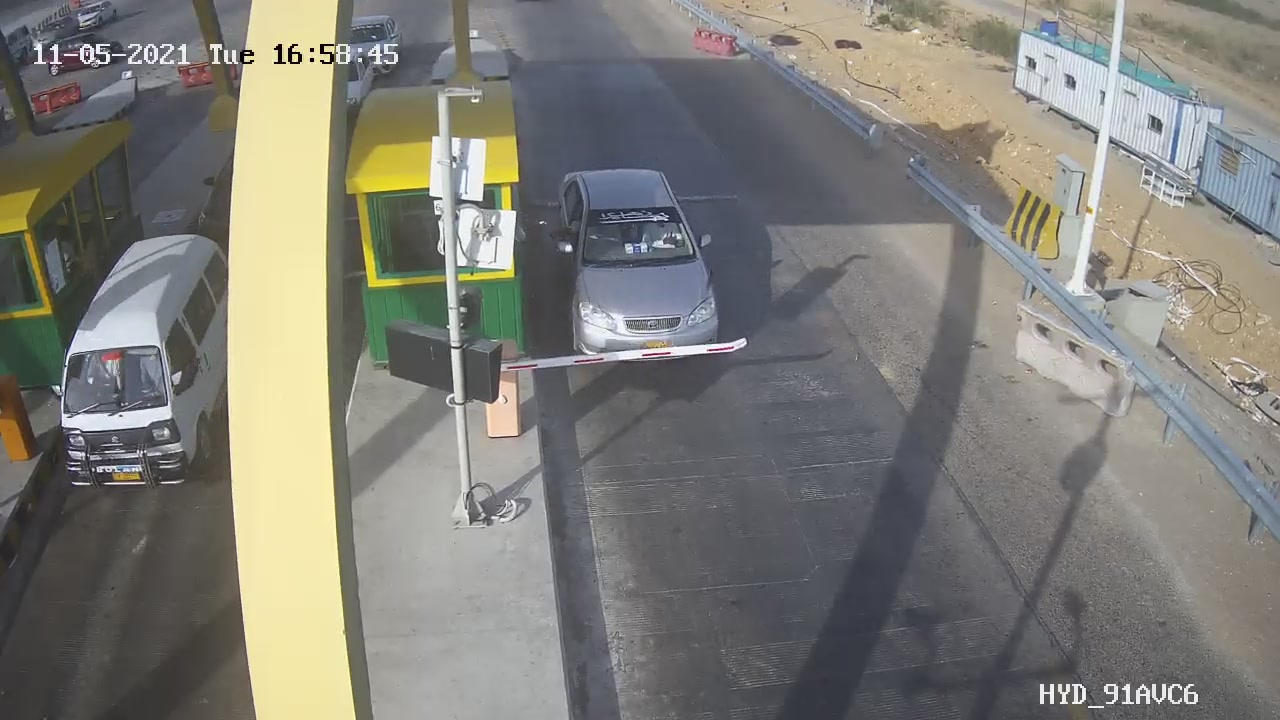F1: (535, 156, 744, 378)
